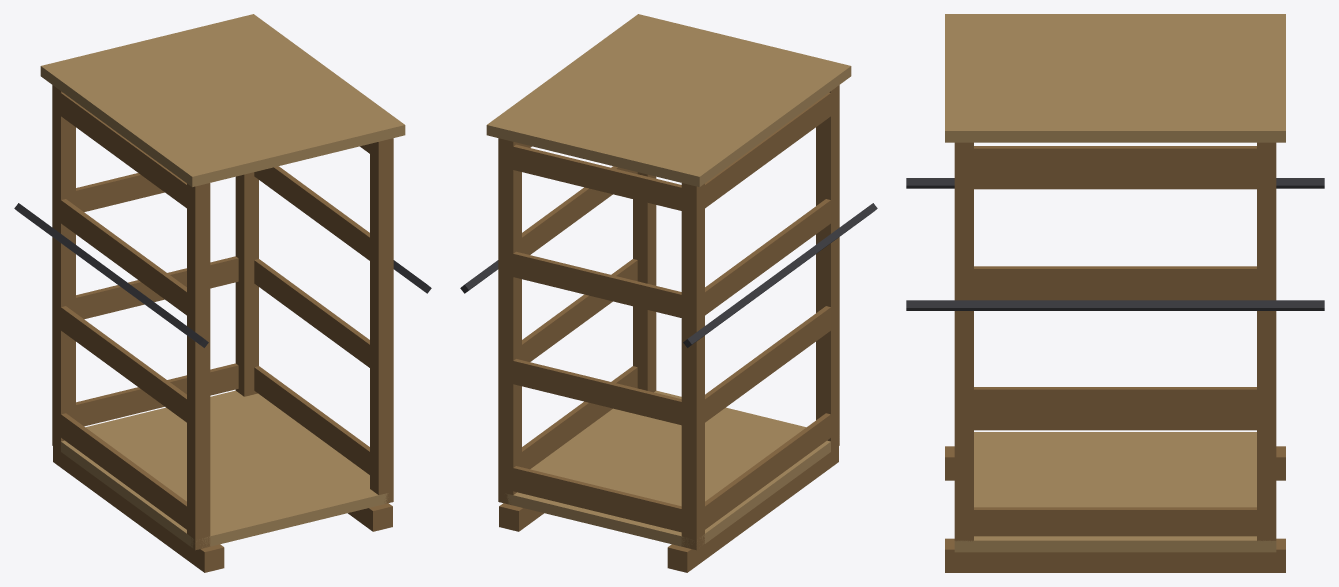
File: Prop_Release_Crate_LOD1.glb
3 renders of one model, left to right at view 1: azimuth 30°, elevation 25°; view 2: azimuth 150°, elevation 25°; view 3: azimuth 270°, elevation 25°, orthographic. The views are drawn at different scales.
Visible parts, largest first — view 1: Prop_Release_Crate; view 2: Prop_Release_Crate; view 3: Prop_Release_Crate.
Part boxes in pixels (bbox=[...]): Prop_Release_Crate: bbox=[14, 14, 431, 572]; Prop_Release_Crate: bbox=[460, 14, 877, 572]; Prop_Release_Crate: bbox=[906, 14, 1324, 572].
Bounding box in the file's own units: 0.936 × 1.54 × 1.3.
